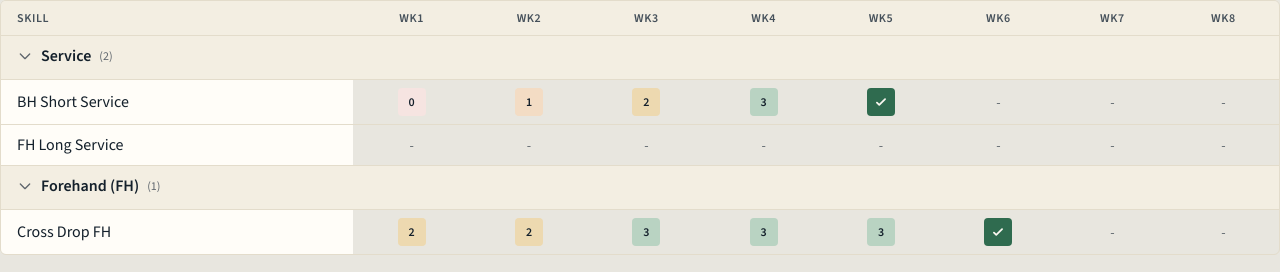
Test: SkillProgressHeatmap › shows tooltip on hover with week number, cycle, and score label
Hover over the button with test id "score-cell-bh-short-service-wk3" at (646, 102), box x1=632 y1=88 x2=660 y2=116
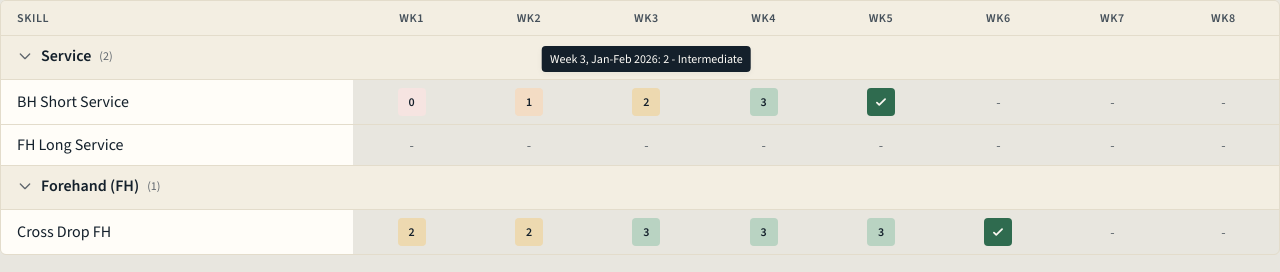
Expected: the tooltip with test id "tooltip-bh-short-service-wk3" reads "Week 3, Jan-Feb 2026: 2 - Intermediate", x1=550 y1=51 x2=743 y2=67
